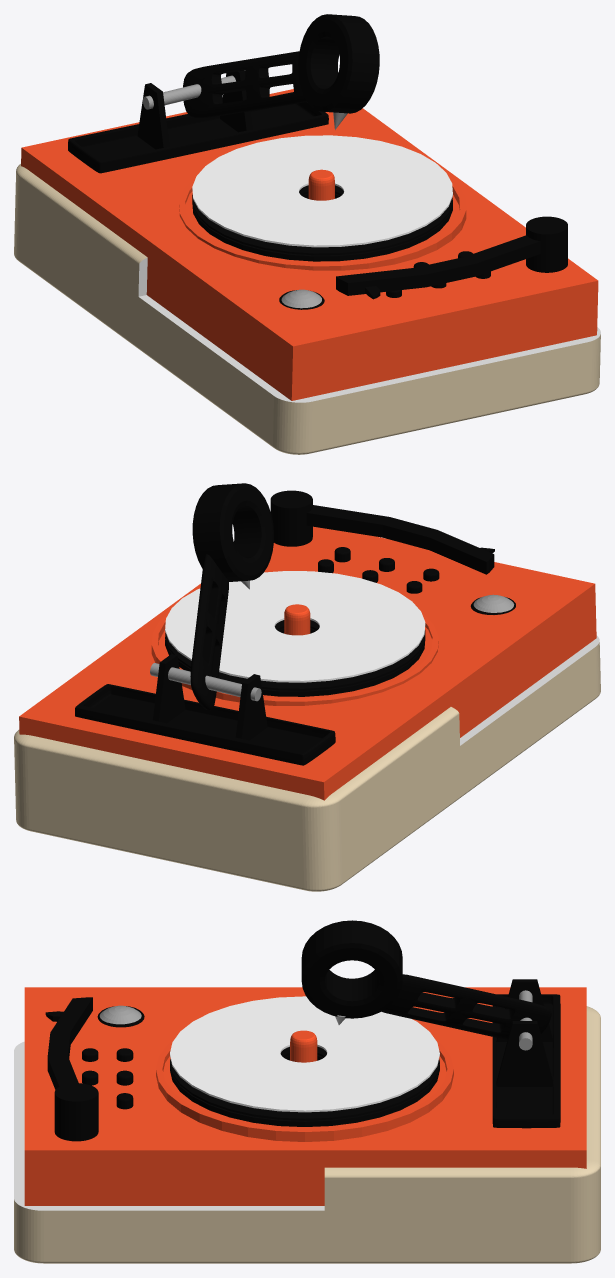
File: THREE.glb
3 renders of one model, top to bottom at view 1: azimuth 30°, elevation 25°; view 2: azimuth 150°, elevation 25°; view 3: azimuth 270°, elevation 25°, orthographic. The views are drawn at different scales.
Parts seen in each view (by area): view 1: Cube, Cube.008, Cylinder.012, Cube.006, Cylinder.001, Cube.001, Cube.005, Cylinder.008, Cylinder.011, Cylinder.004, Cylinder, Cube.002 (+4 smaller); view 2: Cube.008, Cube, Cylinder.012, Cube.006, Cylinder.001, Cube.005, Cube.001, Cylinder.008, Cylinder.004, Cylinder.011, Cube.004, Cube.002 (+5 smaller); view 3: Cube, Cube.008, Cylinder.012, Cylinder.001, Cube.001, Cylinder.008, Cube.006, Cube.004, Cylinder.011, Cylinder.004, Cube.005, Cylinder (+4 smaller).
Boxes of the visible parts, x1,y1,x2,y2 form: Cube: [21, 89, 598, 400]; Cube.008: [14, 164, 600, 454]; Cylinder.012: [192, 135, 452, 247]; Cube.006: [68, 92, 328, 173]; Cylinder.001: [298, 14, 379, 113]; Cube.001: [183, 51, 306, 118]; Cube.005: [336, 235, 540, 299]; Cylinder.008: [179, 176, 466, 270]; Cylinder.011: [192, 185, 452, 255]; Cylinder.004: [526, 216, 567, 272]; Cylinder: [192, 193, 452, 261]; Cube.002: [137, 83, 169, 149]; Cube.008: [14, 635, 600, 891]; Cube: [19, 526, 596, 800]; Cylinder.012: [165, 571, 425, 682]; Cube.006: [75, 684, 335, 765]; Cylinder.001: [192, 483, 273, 581]; Cube.005: [306, 505, 494, 574]; Cube.001: [190, 554, 228, 710]; Cylinder.008: [151, 611, 438, 705]; Cylinder.004: [270, 490, 312, 546]; Cylinder.011: [165, 620, 425, 690]; Cube.004: [152, 654, 185, 723]; Cube.002: [235, 674, 267, 740]; Cube: [24, 987, 586, 1205]; Cube.008: [14, 1006, 600, 1263]; Cylinder.012: [170, 996, 439, 1112]; Cylinder.001: [301, 920, 402, 1018]; Cube.001: [381, 974, 551, 1039]; Cylinder.008: [156, 1040, 453, 1141]; Cube.006: [492, 994, 560, 1128]; Cube.004: [496, 1021, 553, 1086]; Cylinder.011: [170, 1046, 439, 1120]; Cylinder.004: [54, 1083, 98, 1141]; Cube.005: [45, 997, 92, 1089]; Cylinder: [170, 1055, 439, 1126].
Bounding box in the file's own units: 4.17 × 3.48 × 6.32.
